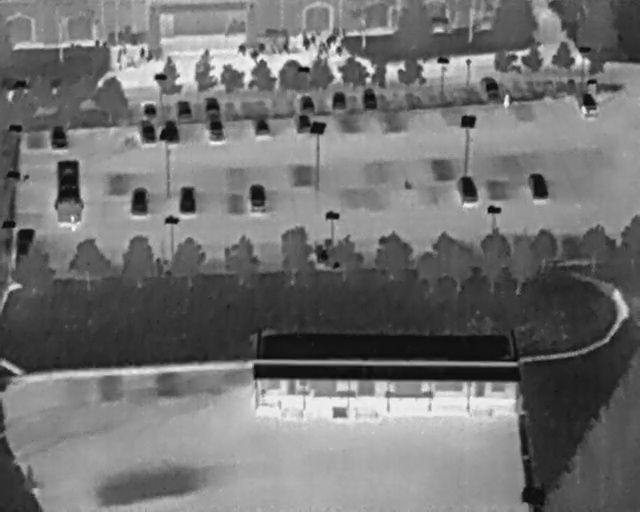Bicycle: (322, 32, 339, 48), (301, 31, 310, 52), (317, 42, 328, 59), (115, 49, 123, 71), (143, 50, 155, 64), (282, 36, 291, 53), (335, 45, 344, 57), (238, 44, 247, 55), (257, 42, 266, 53), (93, 38, 101, 48), (250, 50, 258, 60), (310, 33, 317, 44), (140, 46, 145, 59)
Car: (573, 87, 602, 122), (525, 169, 550, 204), (454, 173, 480, 206), (14, 227, 35, 264), (479, 75, 502, 105), (177, 184, 198, 216), (247, 183, 268, 215), (130, 186, 149, 217), (292, 112, 313, 137), (136, 119, 156, 145), (49, 123, 69, 148), (174, 98, 193, 124), (297, 93, 317, 117), (361, 86, 379, 111), (203, 94, 221, 117), (207, 118, 224, 142), (253, 116, 271, 138), (330, 90, 348, 112), (142, 101, 158, 121)
OtherVehicle: (51, 158, 85, 226)
